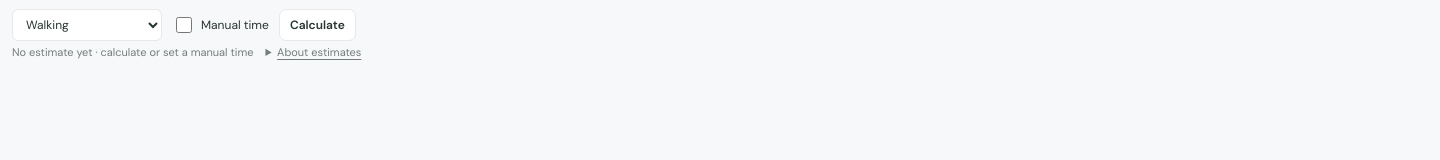
offers manual recovery when Google fails
This screenshot has width=1440, height=160.
Click the button with aria-label "Calculate travel time": x=317, y=25 [279,9,356,41]
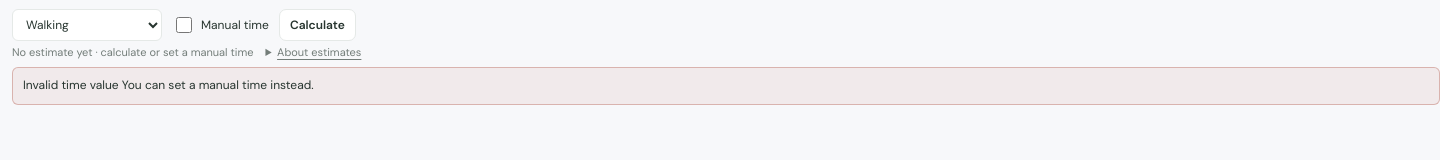
Expected: the checkbox named "Set time manually" is shown, [176,17,192,33]
Expected: the message "Invalid time value You can set a manual time instead." is shown, [12,67,1439,105]
